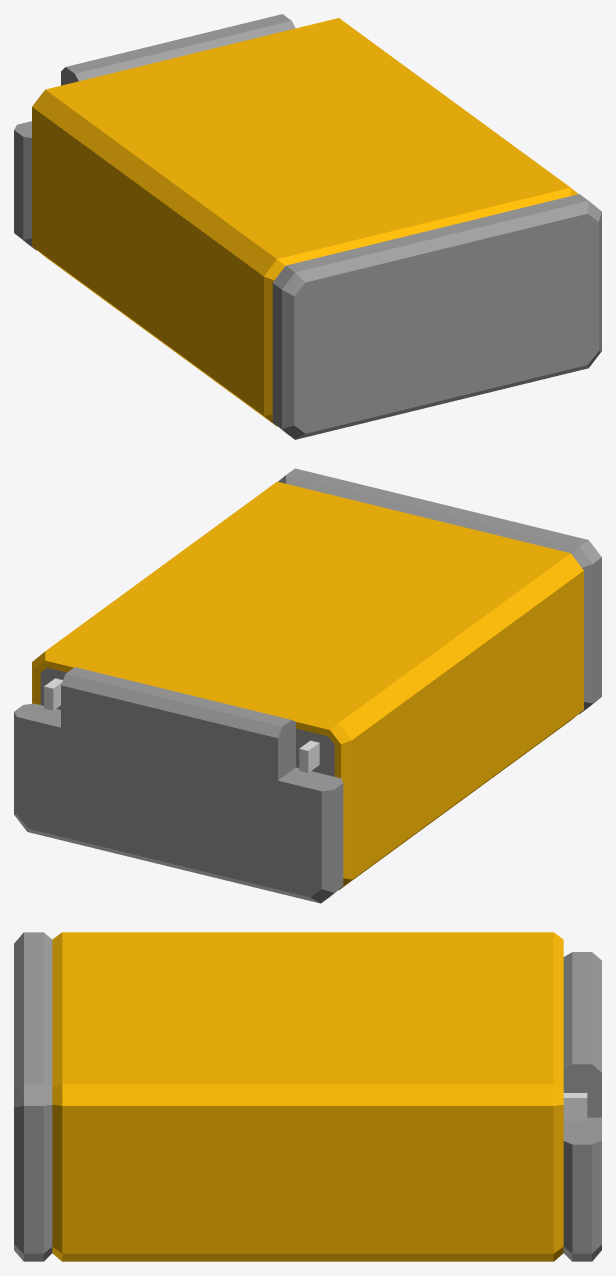
Rendered from epe_battery_pack.dae.
The picture shows the model from 3 angles, top to bottom: view 1: azimuth 30°, elevation 25°; view 2: azimuth 150°, elevation 25°; view 3: azimuth 270°, elevation 25°; orthographic projection. The views are drawn at different scales.
Visible parts, largest first — view 1: battery_pack; view 2: battery_pack; view 3: battery_pack.
Part boxes in pixels (x1,y1,x2,y2): battery_pack: (14,14,601,439); battery_pack: (14,468,601,903); battery_pack: (14,932,601,1261).
Bounding box in the file's own units: 0.5 × 0.75 × 0.25.
